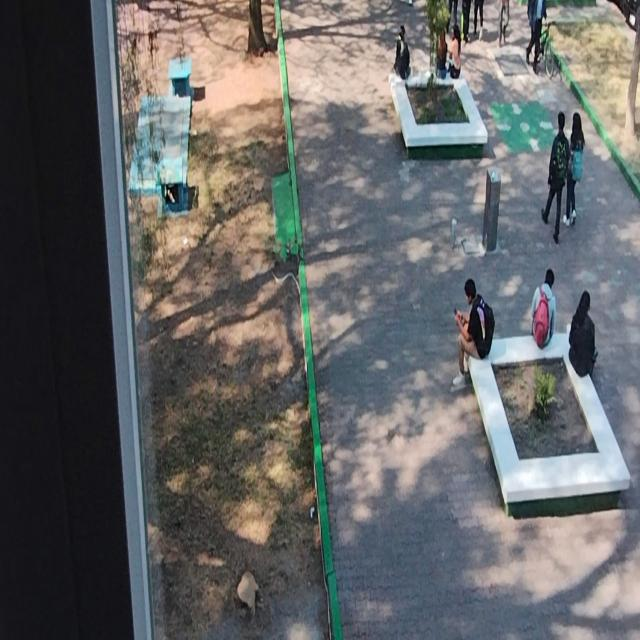adult: (451, 278, 493, 391), (541, 108, 569, 240), (562, 112, 585, 225), (568, 291, 596, 376), (530, 266, 556, 344), (391, 25, 410, 80), (445, 25, 463, 80)
